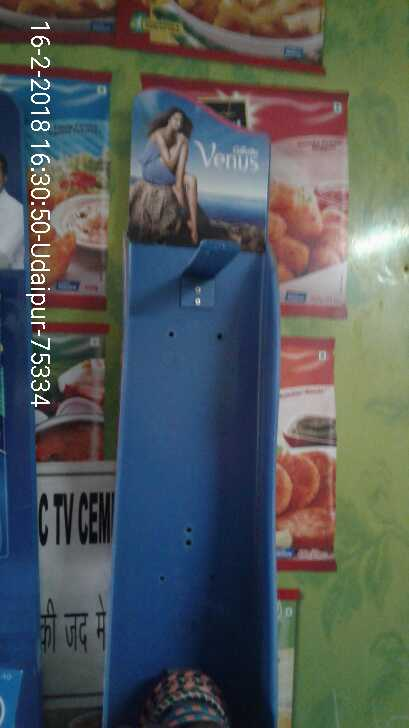reject: (174, 249, 247, 334)
